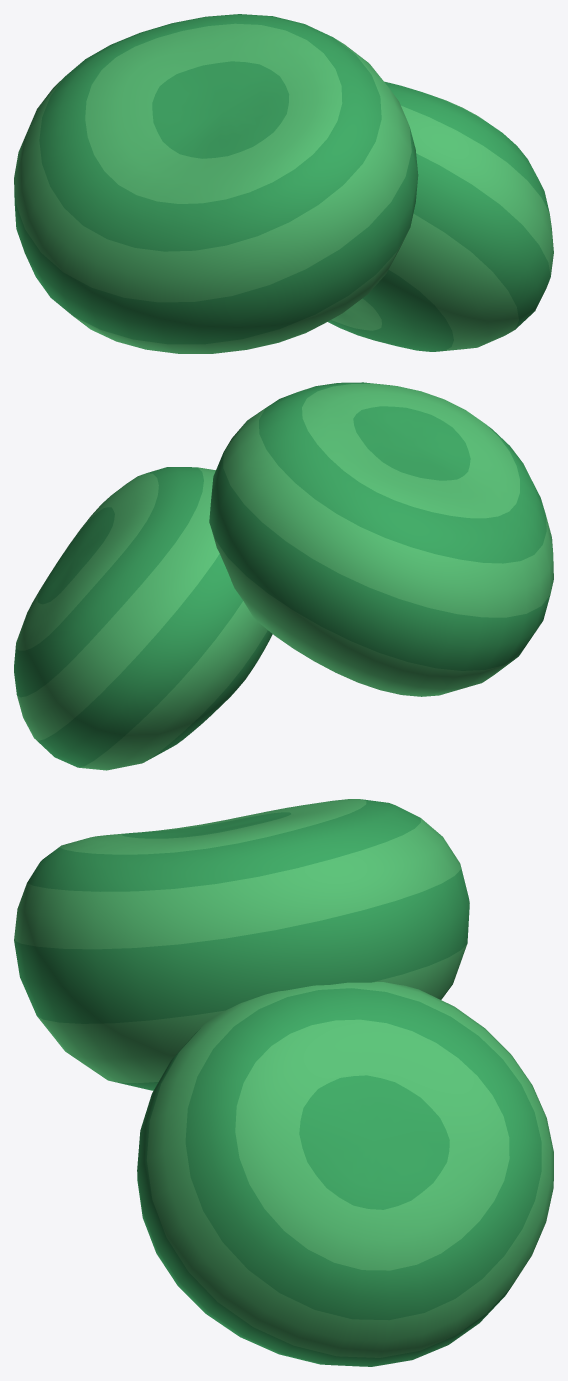
The model's file is Tree_Top_C_02.fbx.
3 views of the same model, one above another, from view 1: azimuth 30°, elevation 25°; view 2: azimuth 150°, elevation 25°; view 3: azimuth 270°, elevation 25° (orthographic). The views are drawn at different scales.
Parts seen in each view (by area): view 1: Tree_Top_C_02_LOD0; view 2: Tree_Top_C_02_LOD0; view 3: Tree_Top_C_02_LOD0.
Part boxes in pixels (x1=…): Tree_Top_C_02_LOD0: x1=14, y1=14, x2=553, y2=353; Tree_Top_C_02_LOD0: x1=14, y1=382, x2=553, y2=770; Tree_Top_C_02_LOD0: x1=14, y1=799, x2=553, y2=1366.
Size of what is drawn, in the model's own units: 896 by 646 by 744.
